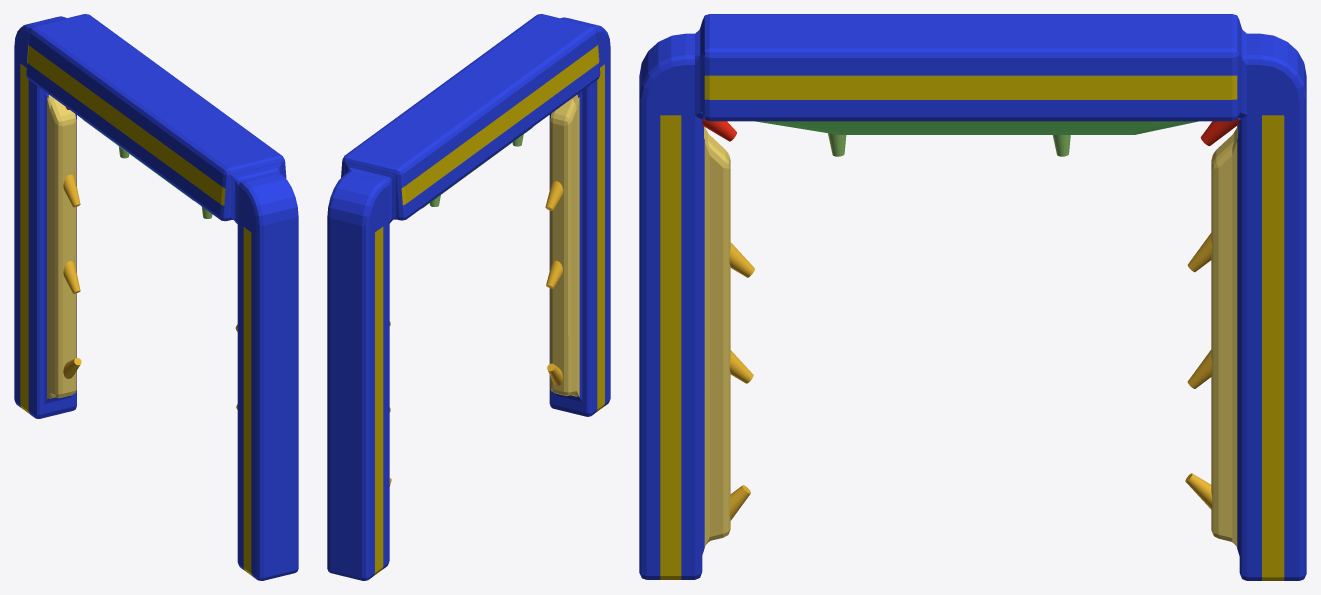
File: OTOWASHER.fbx
3 views of the same model, side by side, from view 1: azimuth 30°, elevation 25°; view 2: azimuth 150°, elevation 25°; view 3: azimuth 270°, elevation 25° (orthographic). The views are drawn at different scales.
Parts seen in each view (by area): view 1: stand, sagsu2, sagsu1; view 2: stand; view 3: stand.
Boxes of the visible parts, x1,y1,x2,y2 form: stand: (14, 14, 298, 580); sagsu2: (63, 261, 80, 293); sagsu1: (63, 174, 80, 207); stand: (327, 14, 610, 580); stand: (639, 14, 1306, 580).
Size of the model in its own units: 141 by 794 by 891.
